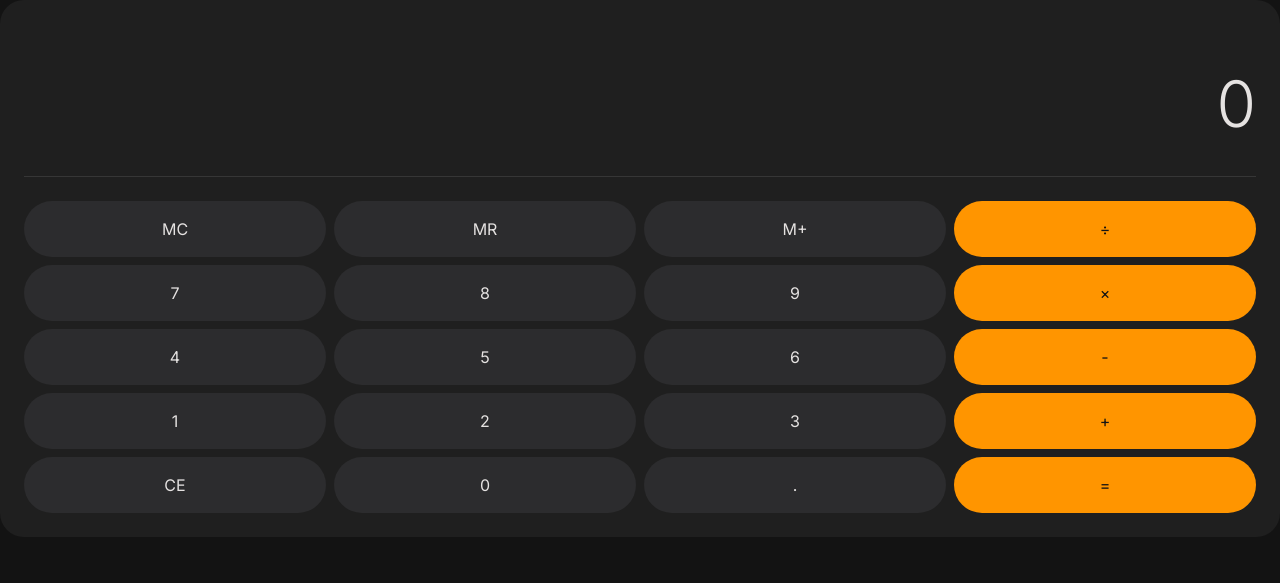
Test: CalculatorSection › shows an error when dividing by zero
Click the button with test id "key-8": (485, 293) [334, 265, 636, 321]
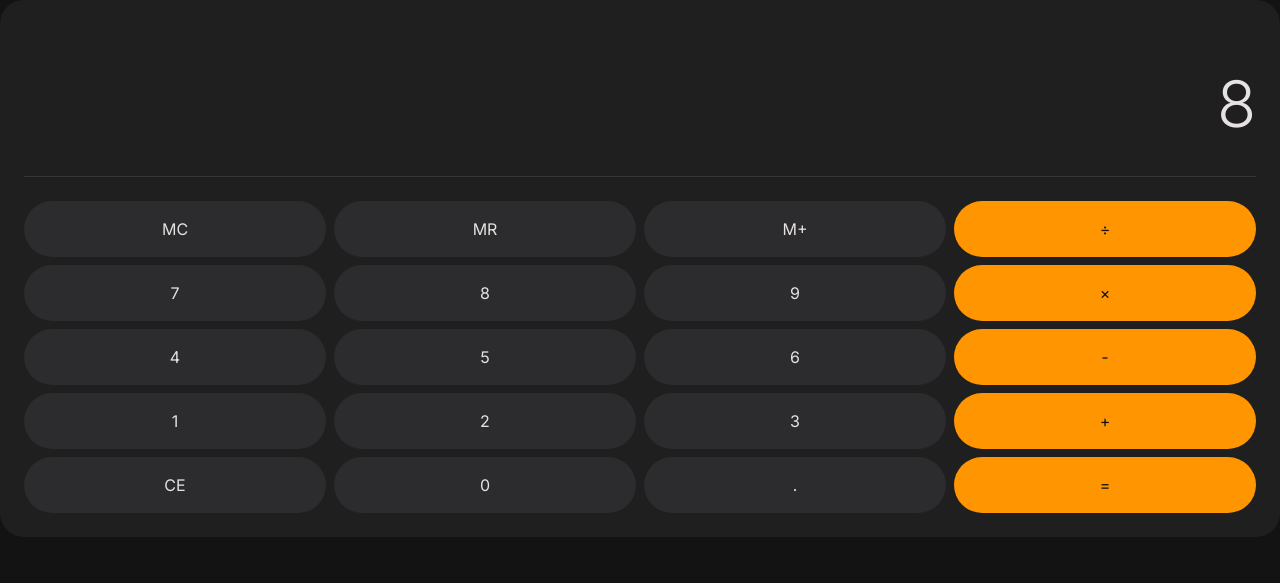
Click the button with test id "key-÷": (1105, 229) [954, 201, 1256, 257]
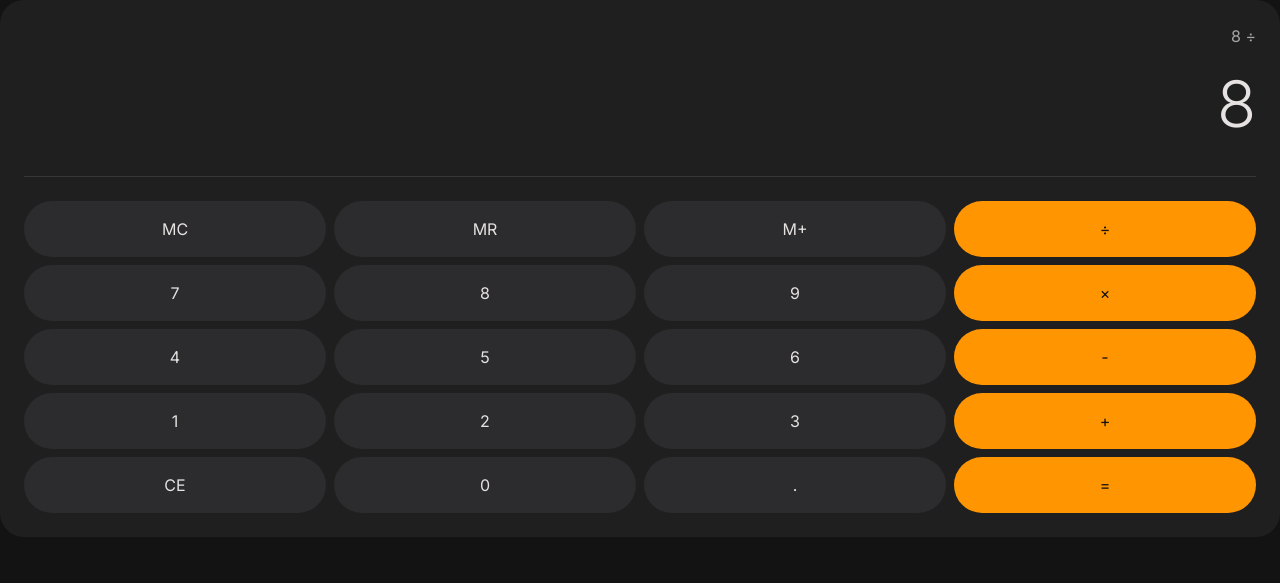
Click the button with test id "key-0": (485, 485) [334, 457, 636, 513]
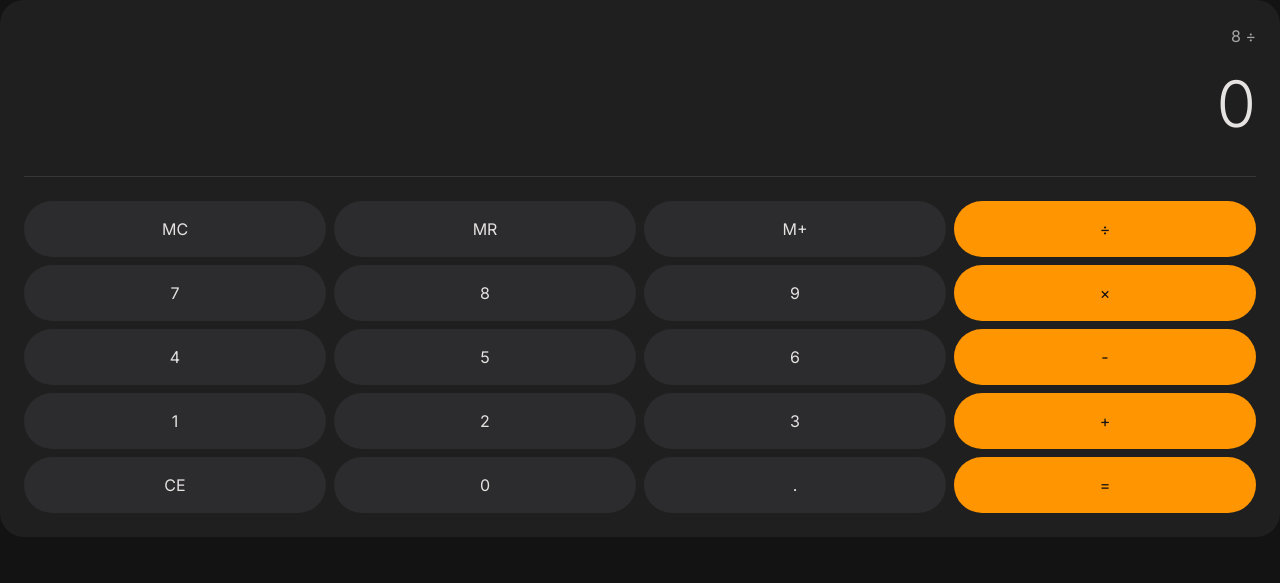
Click the button with test id "key-=": (1105, 485) [954, 457, 1256, 513]
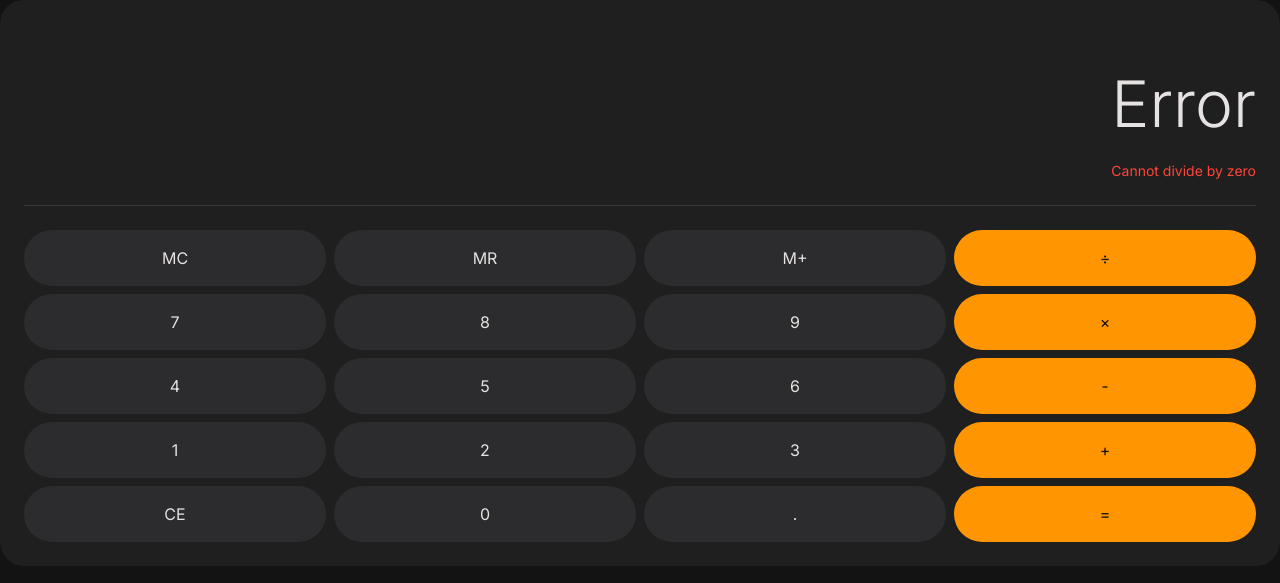
expect the text with test id "calculator-display" reads "Error": met, box [1111, 65, 1256, 142]
expect the message "Cannot divide by zero" is shown: met, box [1111, 162, 1256, 179]
